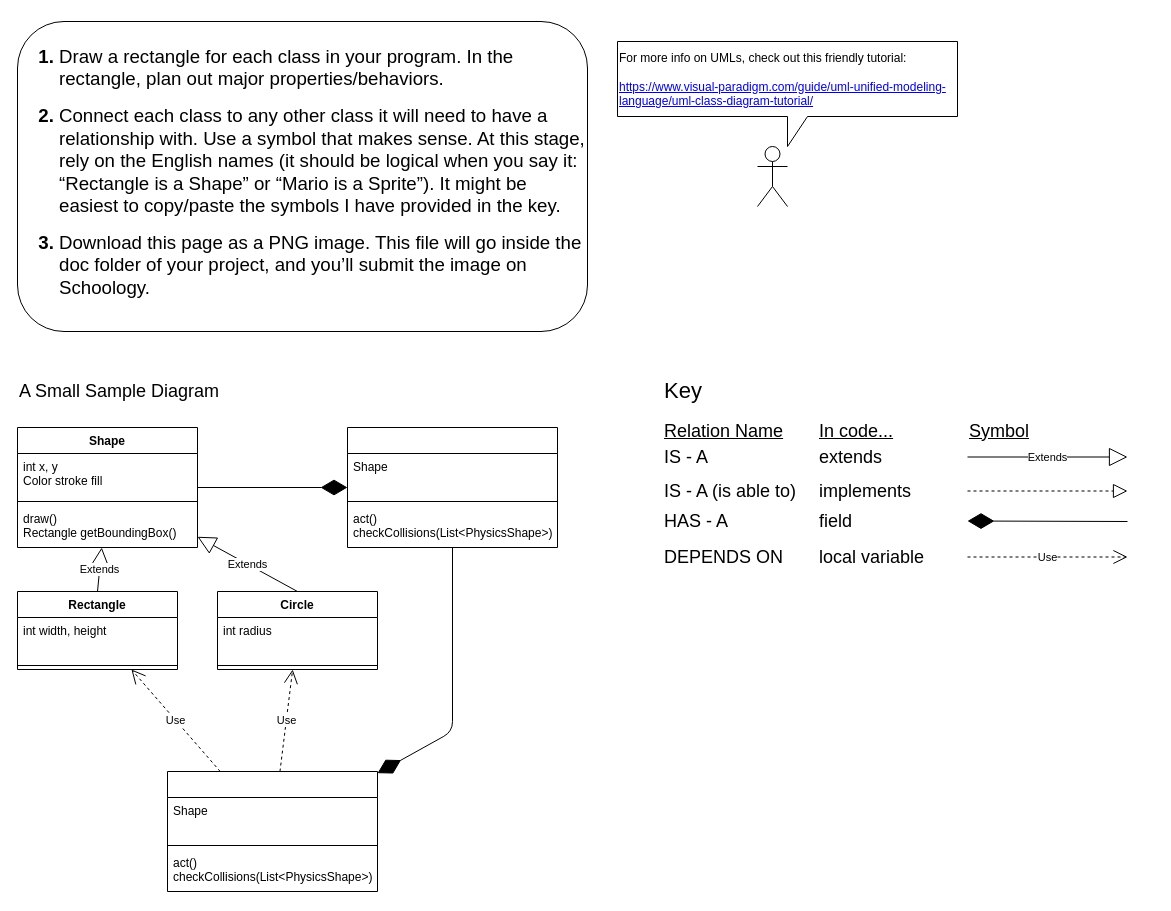
This 1171x911 diagram has some shape labels left out. The shapes that lost their labels are listed below. From the top down, each one's box as (x1, y1, x2, y2) in pixels, then its label:
(756, 146, 788, 206): Actor
(346, 426, 558, 548): PhysicsShape
(166, 770, 378, 892): DrawingSurface
